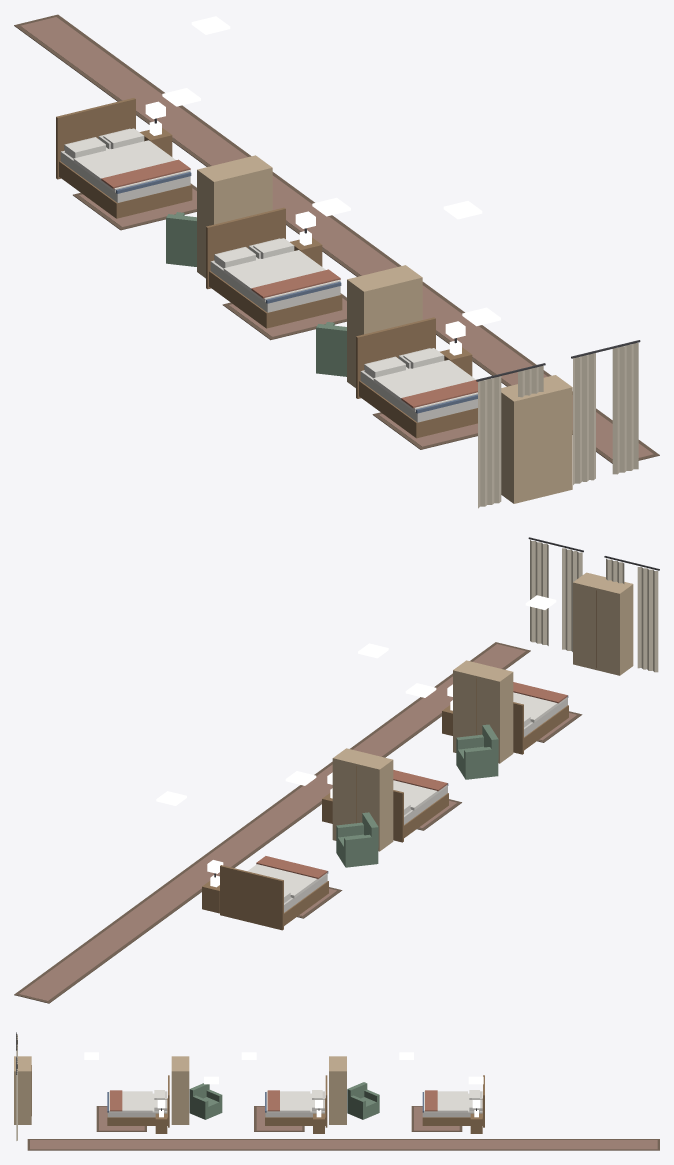
The model's file is fine-s2.glb.
3 renders of one model, top to bottom at view 1: azimuth 30°, elevation 25°; view 2: azimuth 150°, elevation 25°; view 3: azimuth 270°, elevation 25°, orthographic. The views are drawn at different scales.
Parts seen in each view (by area): view 1: soft-s2, dresser.005, bed-frame.004, bed-frame.003, bed-frame.005, dresser.003, dresser.004, lounge-chair.002, lounge-chair.003; view 2: soft-s2, dresser.005, dresser.003, dresser.004, bed-frame.003, lounge-chair.003, lounge-chair.002, bed-frame.005, bed-frame.004; view 3: soft-s2, dresser.004, dresser.003, dresser.005, lounge-chair.003, lounge-chair.002, bed-frame.004, bed-frame.003, bed-frame.005, nightstand.003, nightstand.005, nightstand.004.
Boxes of the visible parts, box(x1,y1,x2,y2) form: soft-s2: box(14, 14, 659, 508); dresser.005: box(501, 375, 572, 503); bed-frame.004: box(206, 207, 342, 328); bed-frame.003: box(56, 98, 192, 218); bed-frame.005: box(356, 317, 477, 438); dresser.003: box(197, 155, 272, 278); dresser.004: box(347, 265, 422, 387); lounge-chair.002: box(166, 212, 196, 266); lounge-chair.003: box(316, 322, 346, 376); soft-s2: box(14, 537, 659, 1003); dresser.005: box(573, 572, 633, 675); dresser.003: box(332, 748, 393, 851); dresser.004: box(453, 660, 513, 763); bed-frame.003: box(220, 865, 328, 930); lounge-chair.003: box(456, 724, 498, 779); lounge-chair.002: box(336, 812, 378, 867); bed-frame.005: box(513, 695, 568, 754); bed-frame.004: box(393, 783, 448, 842); soft-s2: box(16, 1032, 659, 1150); dresser.004: box(171, 1056, 189, 1124); dresser.003: box(329, 1056, 346, 1124); dresser.005: box(14, 1056, 31, 1124); lounge-chair.003: box(189, 1083, 222, 1119); lounge-chair.002: box(347, 1082, 379, 1119); bed-frame.004: box(265, 1075, 327, 1127); bed-frame.003: box(422, 1075, 484, 1127); bed-frame.005: box(107, 1075, 169, 1127); nightstand.003: box(470, 1110, 482, 1133); nightstand.005: box(155, 1110, 167, 1133); nightstand.004: box(313, 1110, 324, 1133).
Bounding box in the file's own units: 3.97 × 2.56 × 21.76.
